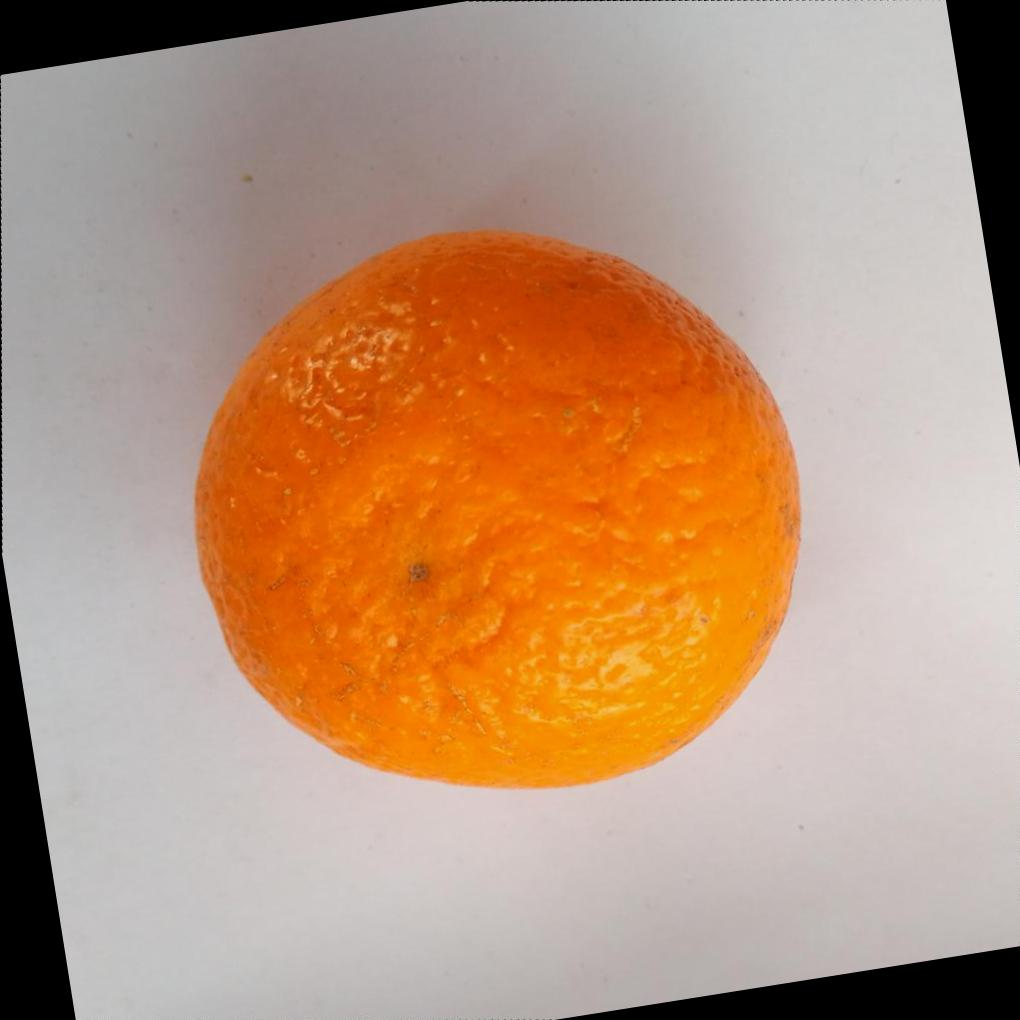FreshGuava: (188, 228, 799, 790)
